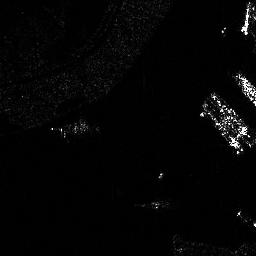ship: (198, 100, 241, 152), (210, 91, 249, 137), (240, 2, 252, 36)
